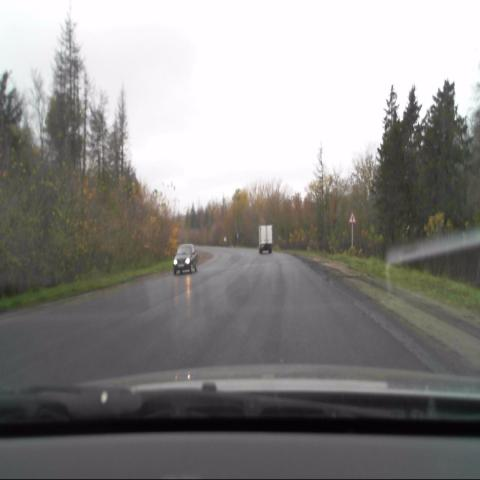2_3: (348, 212, 356, 224)
